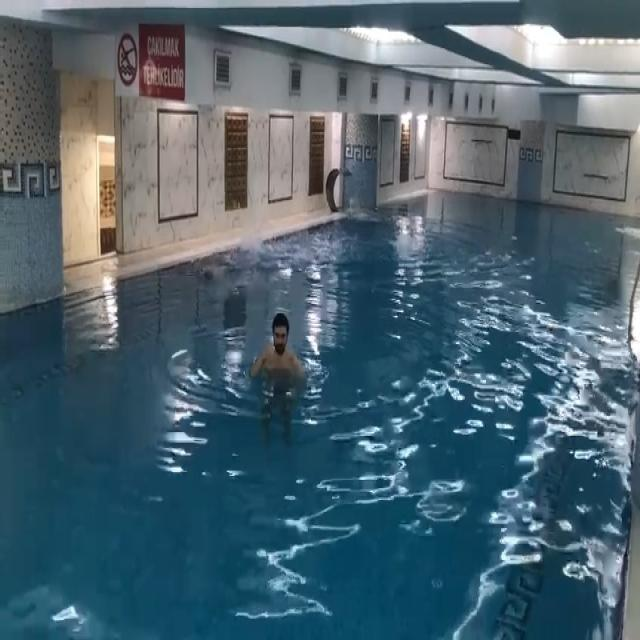Swimming: (251, 310, 305, 382)
